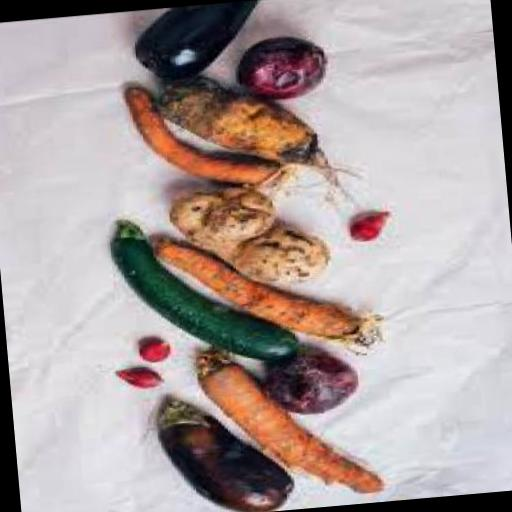biodegradable: (112, 204, 308, 374), (198, 338, 388, 510), (155, 62, 353, 214), (166, 228, 380, 363), (124, 74, 294, 200), (154, 390, 297, 512), (135, 0, 275, 82), (171, 184, 284, 250), (232, 222, 338, 290), (269, 349, 367, 418), (239, 32, 330, 104), (116, 366, 171, 392), (354, 214, 394, 244), (141, 339, 174, 366)
